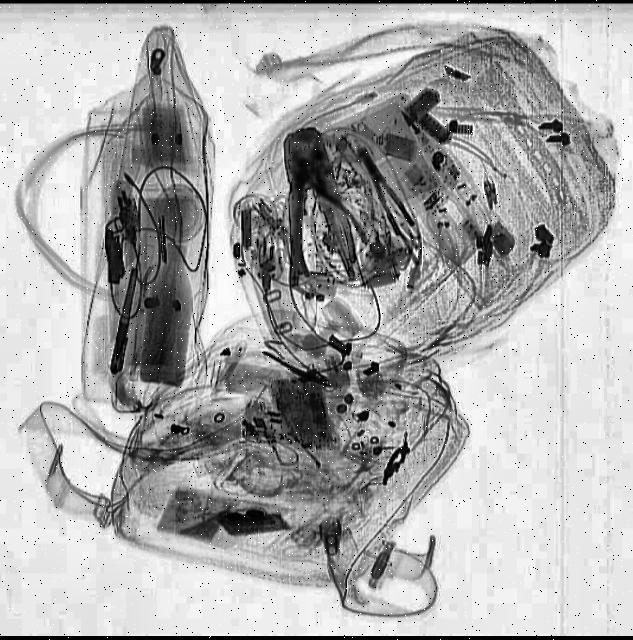Pliers: (268, 122, 362, 289), (272, 142, 375, 278), (354, 142, 418, 236)
